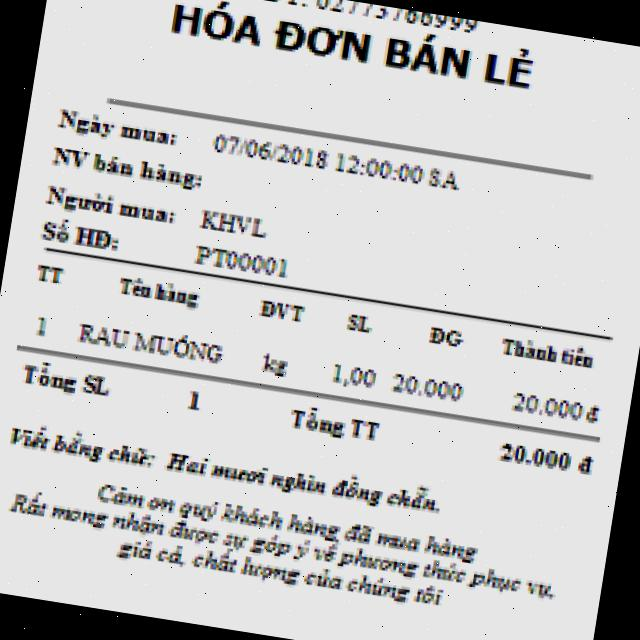Date: (208, 127, 335, 174)
amount_number: (492, 434, 575, 478)
label_total: (284, 404, 392, 448)
